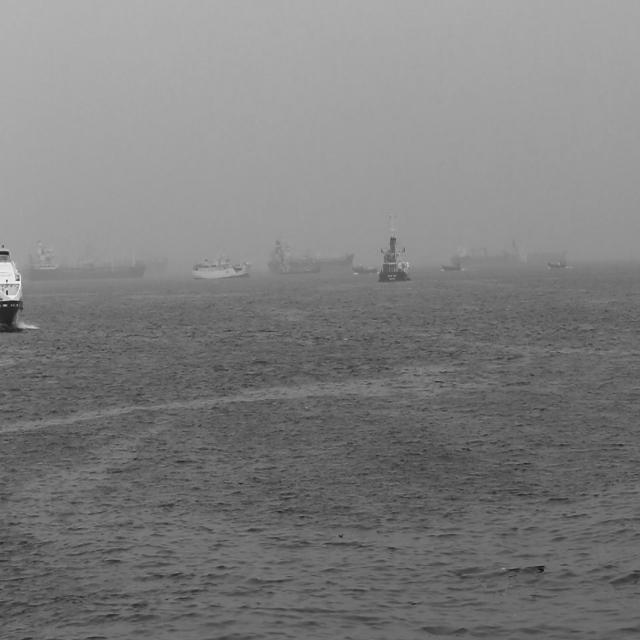ship: (22, 241, 148, 280), (265, 234, 356, 270), (0, 241, 24, 330), (378, 217, 408, 283), (446, 239, 520, 262), (192, 254, 252, 278), (526, 246, 570, 261), (354, 262, 378, 276), (440, 262, 462, 272), (548, 259, 568, 269)
